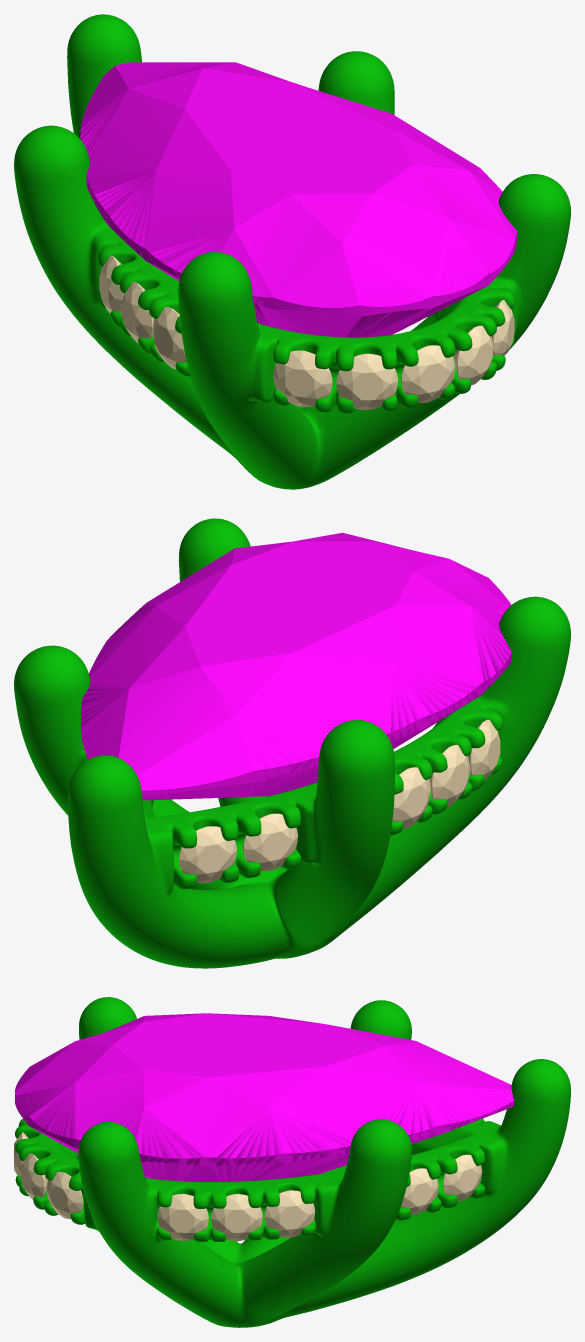
The picture shows the model from 3 angles, top to bottom: view 1: azimuth 30°, elevation 25°; view 2: azimuth 150°, elevation 25°; view 3: azimuth 270°, elevation 25°; orthographic projection. The views are drawn at different scales.
Parts seen in each view (by area): view 1: Diamond_Pear, Metal01, Diamond_Round.009, Diamond_Round.010, Diamond_Round.008, Diamond_Round.007, Diamond_Round.002, Diamond_Round.001, Diamond_Round, Diamond_Round.006; view 2: Metal01, Diamond_Pear, Diamond_Round.014, Diamond_Round.013, Diamond_Round, Diamond_Round.001, Diamond_Round.002; view 3: Metal01, Diamond_Pear, Diamond_Round.004, Diamond_Round.003, Diamond_Round.005, Diamond_Round.011, Diamond_Round.012, Diamond_Round.006, Diamond_Round.007.
Part boxes in pixels (x1=…): Diamond_Pear: x1=80, y1=62, x2=517, y2=337; Metal01: x1=14, y1=14, x2=570, y2=489; Diamond_Round.009: x1=336, y1=353, x2=397, y2=410; Diamond_Round.010: x1=273, y1=350, x2=332, y2=407; Diamond_Round.008: x1=401, y1=345, x2=455, y2=402; Diamond_Round.007: x1=453, y1=325, x2=493, y2=385; Diamond_Round.002: x1=152, y1=307, x2=186, y2=369; Diamond_Round.001: x1=121, y1=282, x2=154, y2=343; Diamond_Round: x1=99, y1=255, x2=124, y2=313; Diamond_Round.006: x1=492, y1=300, x2=514, y2=356; Metal01: x1=14, y1=518, x2=570, y2=968; Diamond_Pear: x1=81, y1=532, x2=512, y2=800; Diamond_Round.014: x1=178, y1=826, x2=236, y2=883; Diamond_Round.013: x1=243, y1=813, x2=297, y2=871; Diamond_Round: x1=392, y1=767, x2=430, y2=829; Diamond_Round.001: x1=429, y1=744, x2=470, y2=806; Diamond_Round.002: x1=468, y1=719, x2=500, y2=780; Metal01: x1=15, y1=997, x2=570, y2=1327; Diamond_Pear: x1=15, y1=1013, x2=514, y2=1181; Diamond_Round.004: x1=211, y1=1194, x2=262, y2=1241; Diamond_Round.003: x1=157, y1=1194, x2=208, y2=1241; Diamond_Round.005: x1=264, y1=1190, x2=314, y2=1237; Diamond_Round.011: x1=443, y1=1154, x2=482, y2=1201; Diamond_Round.012: x1=400, y1=1168, x2=438, y2=1214; Diamond_Round.006: x1=46, y1=1172, x2=83, y2=1219; Diamond_Round.007: x1=20, y1=1153, x2=47, y2=1199.
Bounding box in the file's own units: 7.87 × 6.76 × 12.4.
